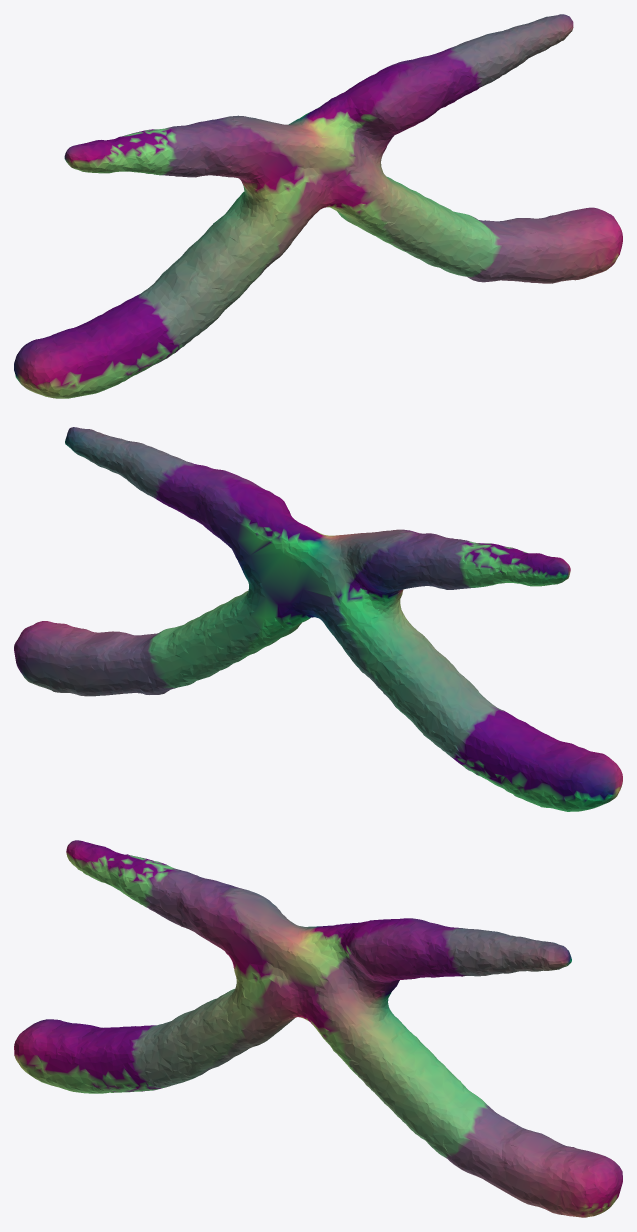
The model's file is pliers-9.off.obj.
3 renders of one model, top to bottom at view 1: azimuth 30°, elevation 25°; view 2: azimuth 150°, elevation 25°; view 3: azimuth 330°, elevation 25°, orthographic.
Size of the model in its own units: 1.73 by 0.7239 by 0.1816.
